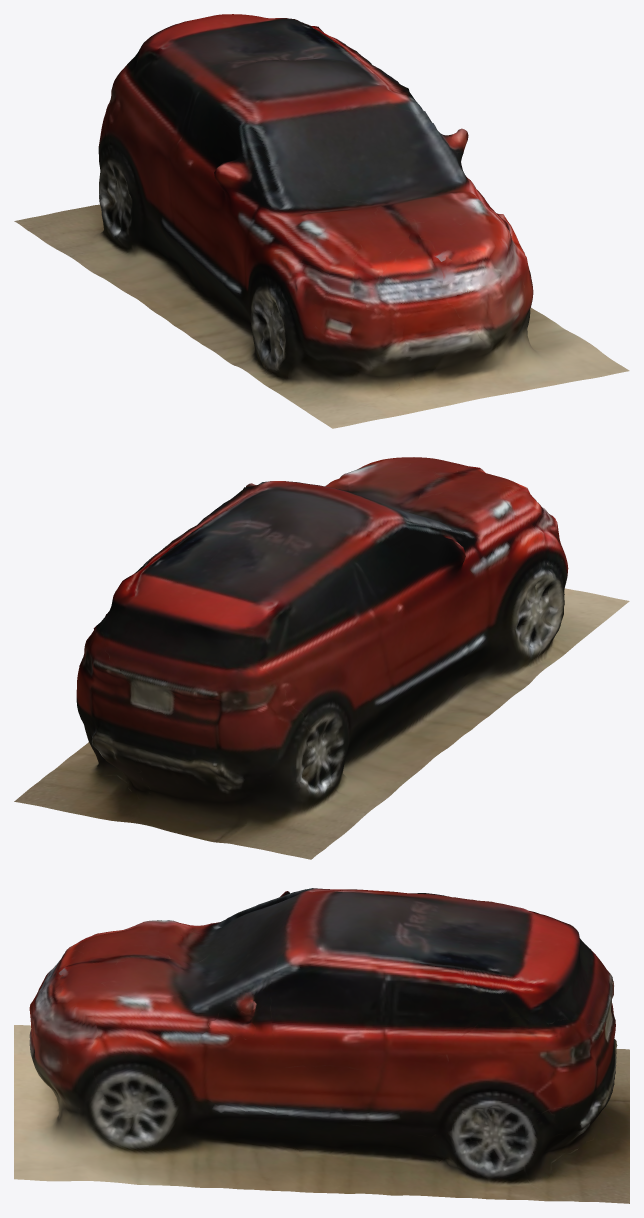
Rendered from 3DModel.glb.
3 renders of one model, top to bottom at view 1: azimuth 30°, elevation 25°; view 2: azimuth 150°, elevation 25°; view 3: azimuth 270°, elevation 25°, orthographic. The views are drawn at different scales.
Visible parts, largest first — view 1: 3DModel; view 2: 3DModel; view 3: 3DModel.
Boxes of the visible parts, x1=… form: 3DModel: x1=14, y1=14, x2=629, y2=428; 3DModel: x1=14, y1=457, x2=629, y2=859; 3DModel: x1=14, y1=888, x2=629, y2=1203.
Size of the model in its own units: 0.3288 by 0.2447 by 0.6102.
1 material, 1 textured.
